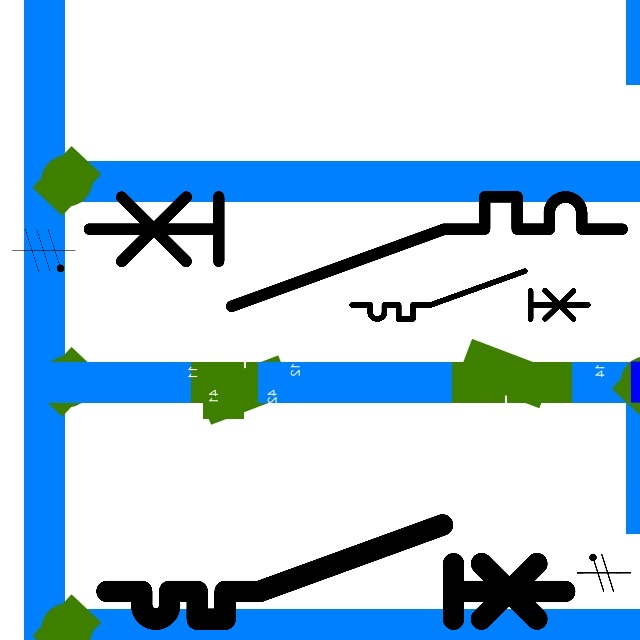interruptor_termomagnetico: (75, 183, 636, 320), (95, 513, 576, 631), (346, 265, 594, 325)
